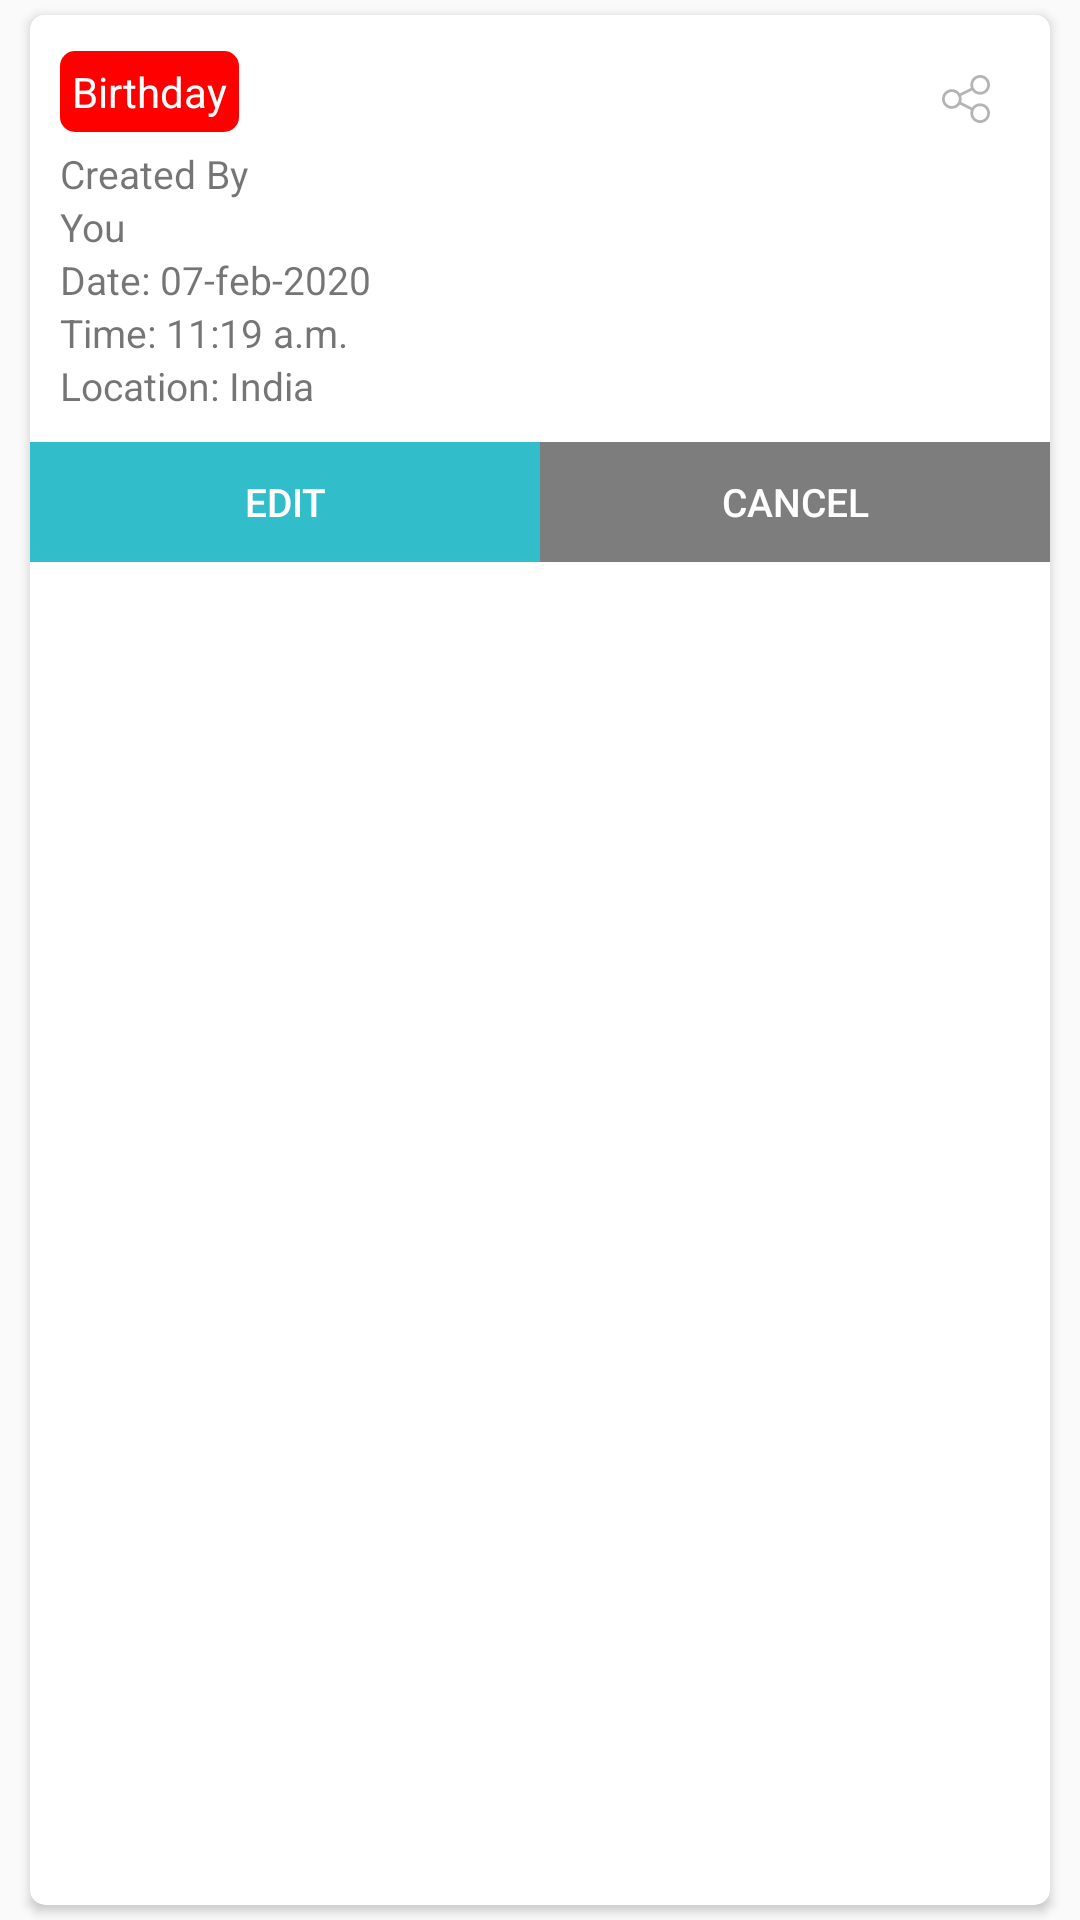

Locate icon controls on the screen. Image size 1080px×1920px, boxes as (x1, y1, x2, y2).
share: (942, 75, 990, 123)
